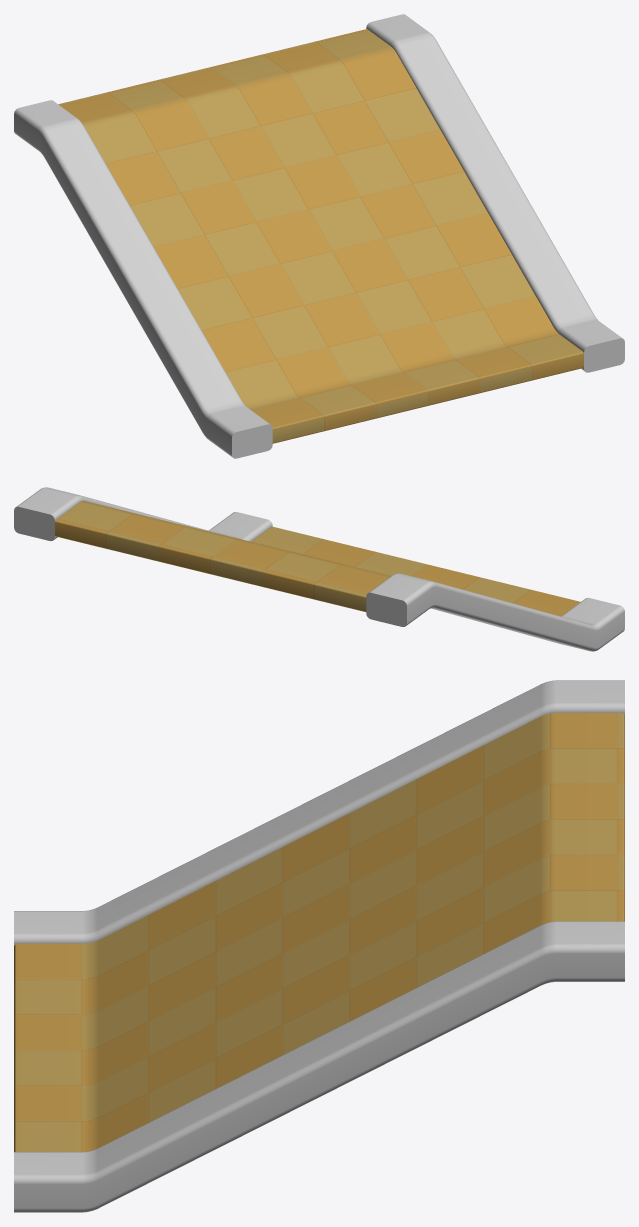
Rendered from SlantedGridFloor.fbx.
3 renders of one model, top to bottom at view 1: azimuth 30°, elevation 25°; view 2: azimuth 150°, elevation 25°; view 3: azimuth 270°, elevation 25°, orthographic. The views are drawn at different scales.
Visible parts, largest first — view 1: SlantedGridFloor; view 2: SlantedGridFloor; view 3: SlantedGridFloor.
Boxes of the visible parts, x1=… form: SlantedGridFloor: x1=14, y1=14, x2=624, y2=458; SlantedGridFloor: x1=14, y1=487, x2=624, y2=651; SlantedGridFloor: x1=14, y1=680, x2=624, y2=1212.
Size of the model in its own units: 1250 by 581 by 1200.
